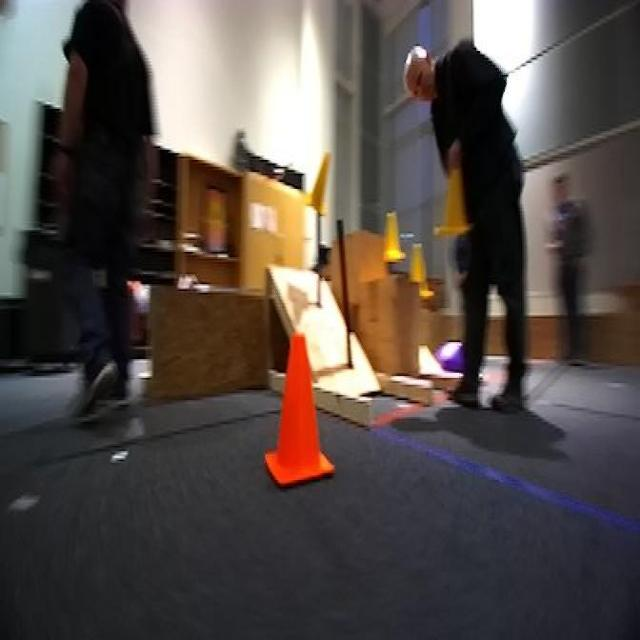frc_cone: (440, 163, 467, 240), (408, 230, 433, 298), (308, 150, 333, 209), (383, 205, 405, 272)
frc_cube: (435, 340, 463, 373)
